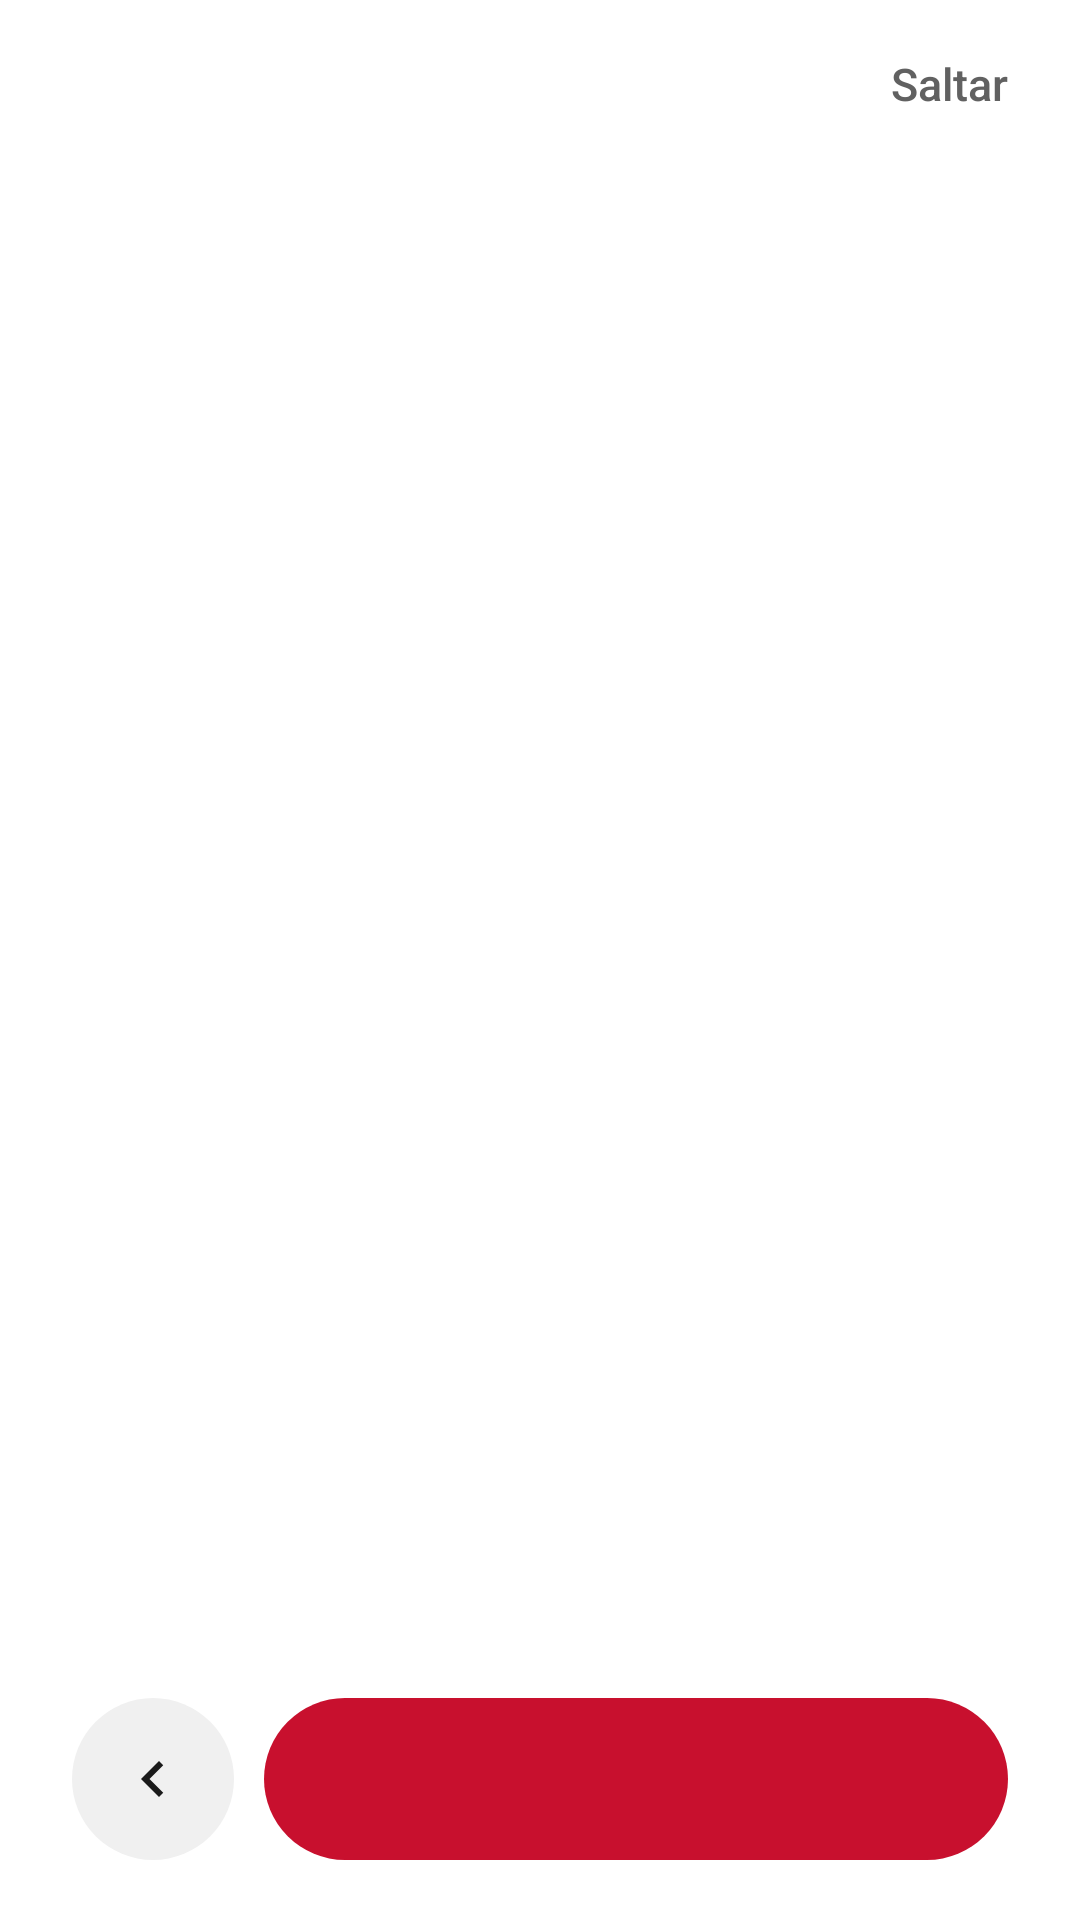

Screen size 1080*1920. Icon name, then its center in pixels as (x=x, y=y):
Página anterior: (x=153, y=1779)
